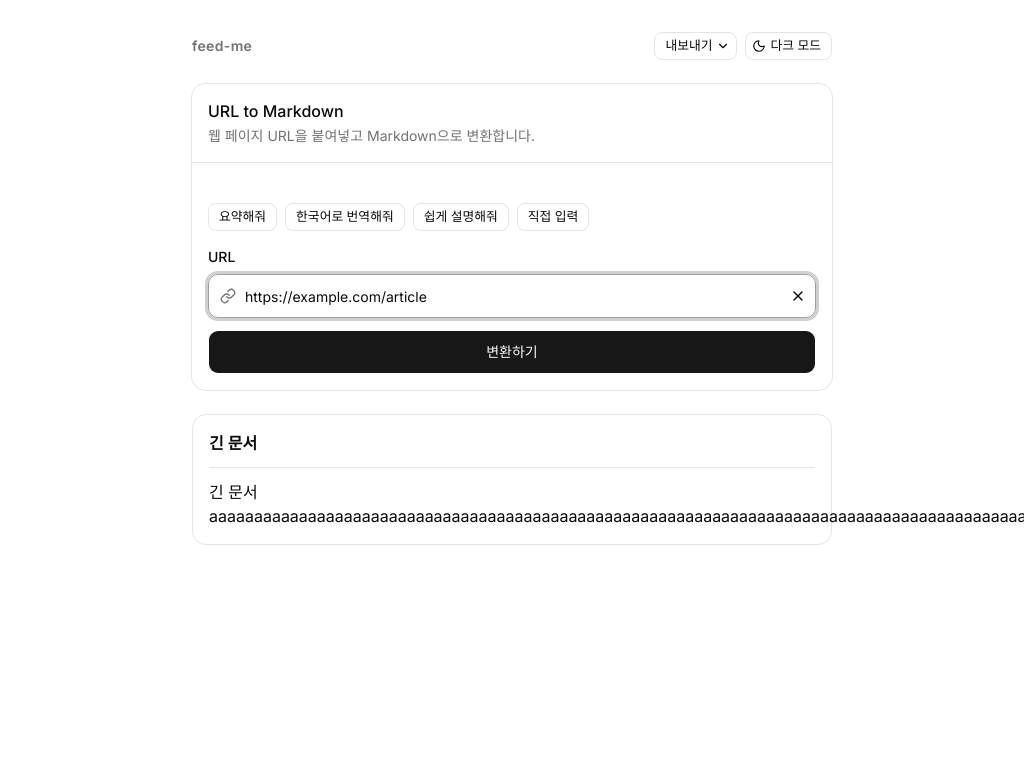
Test case: UrlToMarkdownPage conversion flow › blocks llm handoff when the markdown is too long for a query url
What coordinates should you click on to do the following:
click the button "내보내기"
I would click on:
 (696, 46)
Its box is left=654, top=32, right=738, bottom=60.
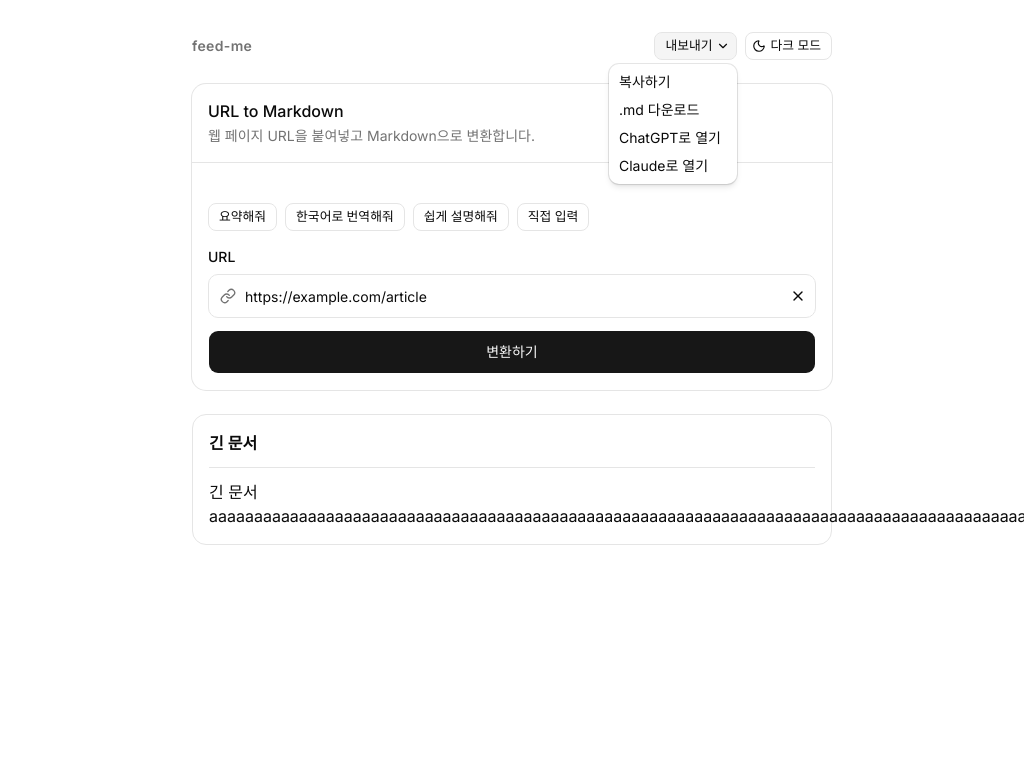
What coordinates should you click on to do the following:
click the menu item "ChatGPT로 열기"
I would click on:
 (670, 138)
Its box is left=619, top=129, right=721, bottom=146.
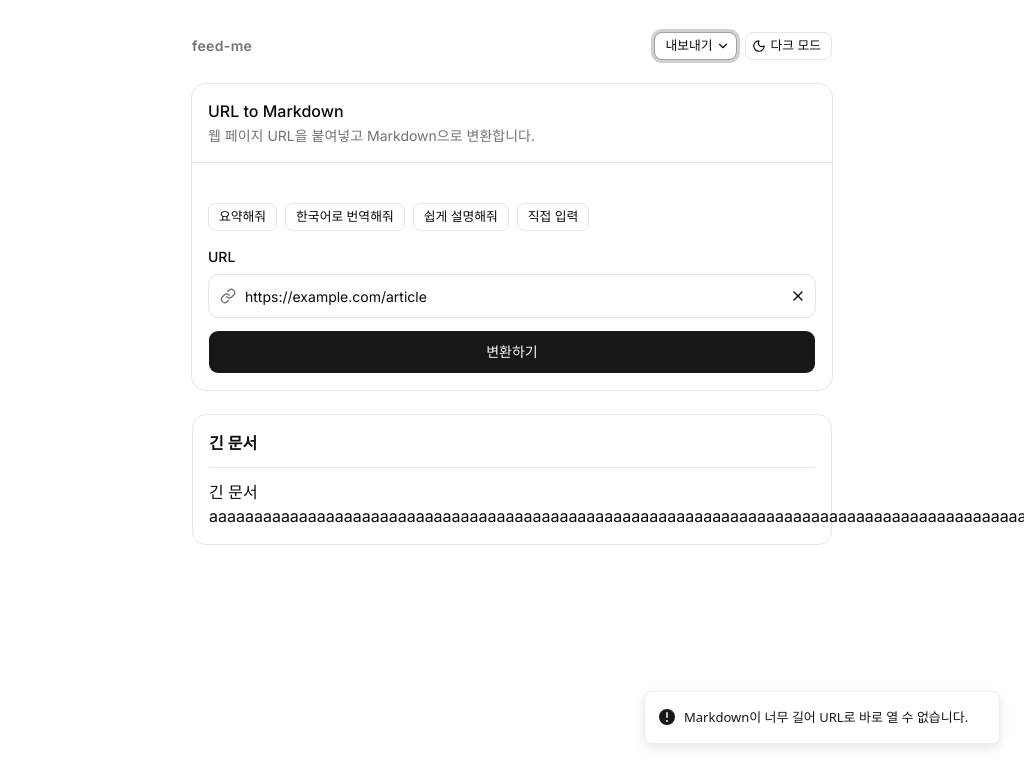
Now the text "Markdown이 너무 길어 URL로 바로 열 수 없습니다." is shown, box left=684, top=708, right=968, bottom=727
